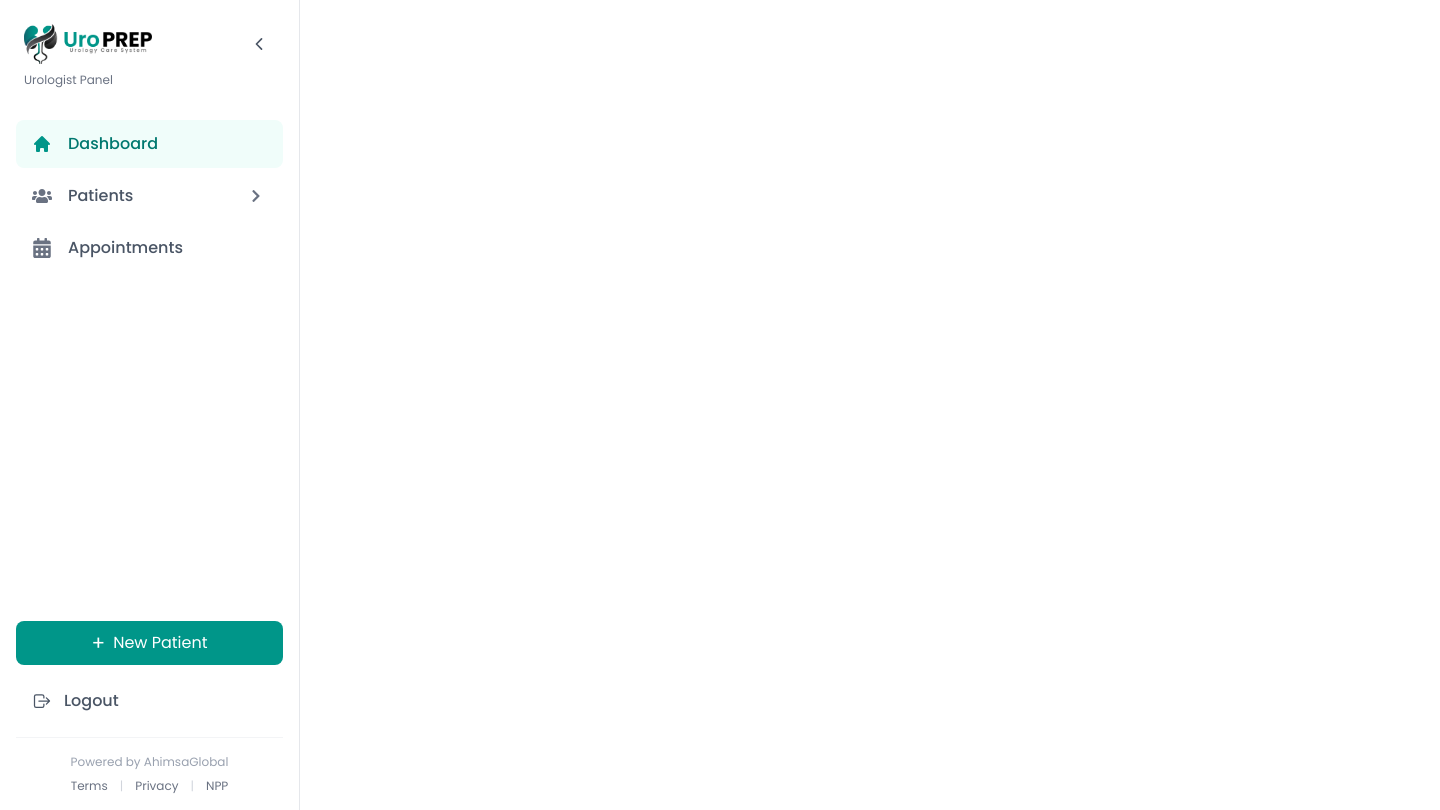
Test: UrologistSidebar › opens Terms modal when Terms button is clicked
This screenshot has width=1440, height=810.
Click the button "Terms".
click(89, 786)  # box [71, 778, 108, 794]
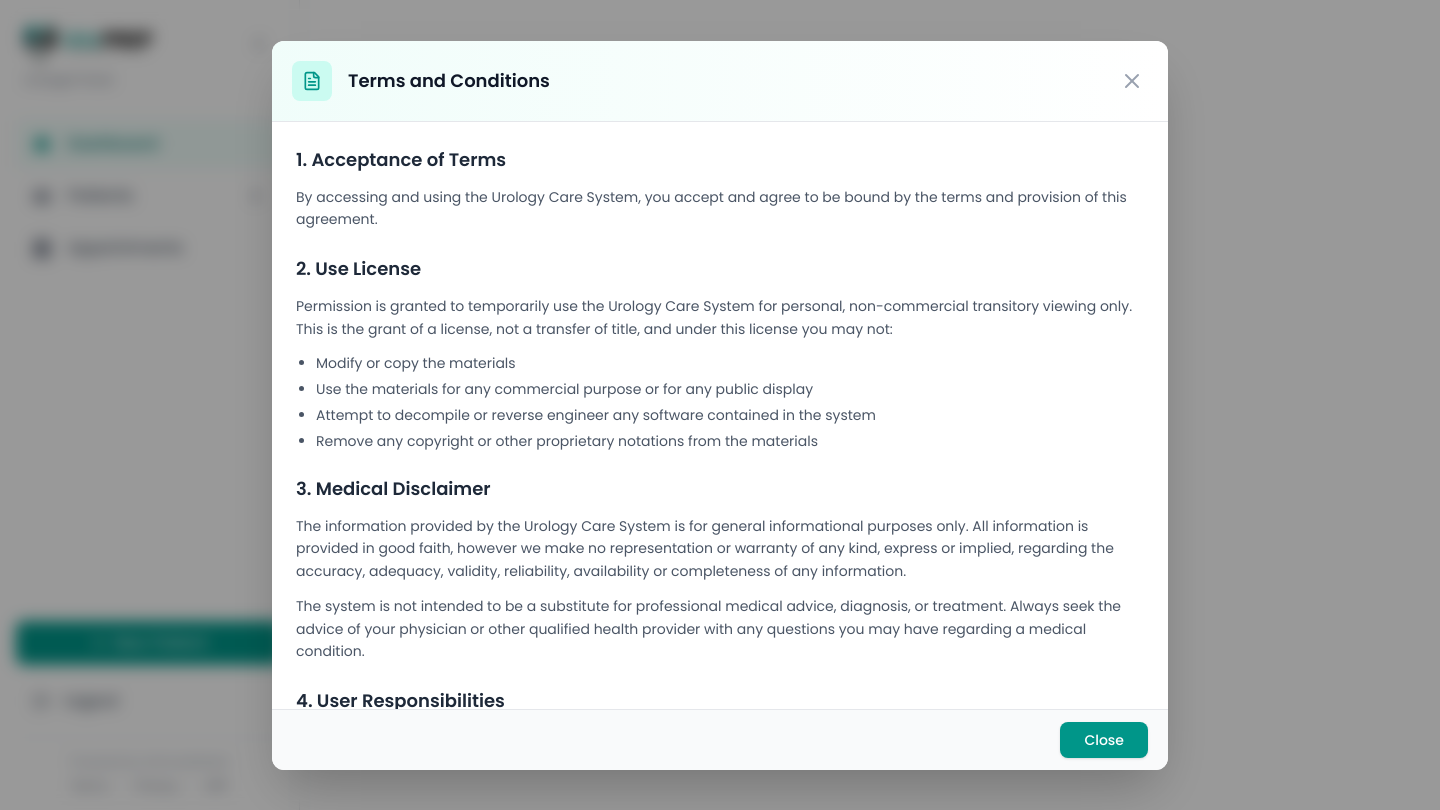
Expected: the heading "Terms and Conditions" is shown, [348, 66, 550, 94]
